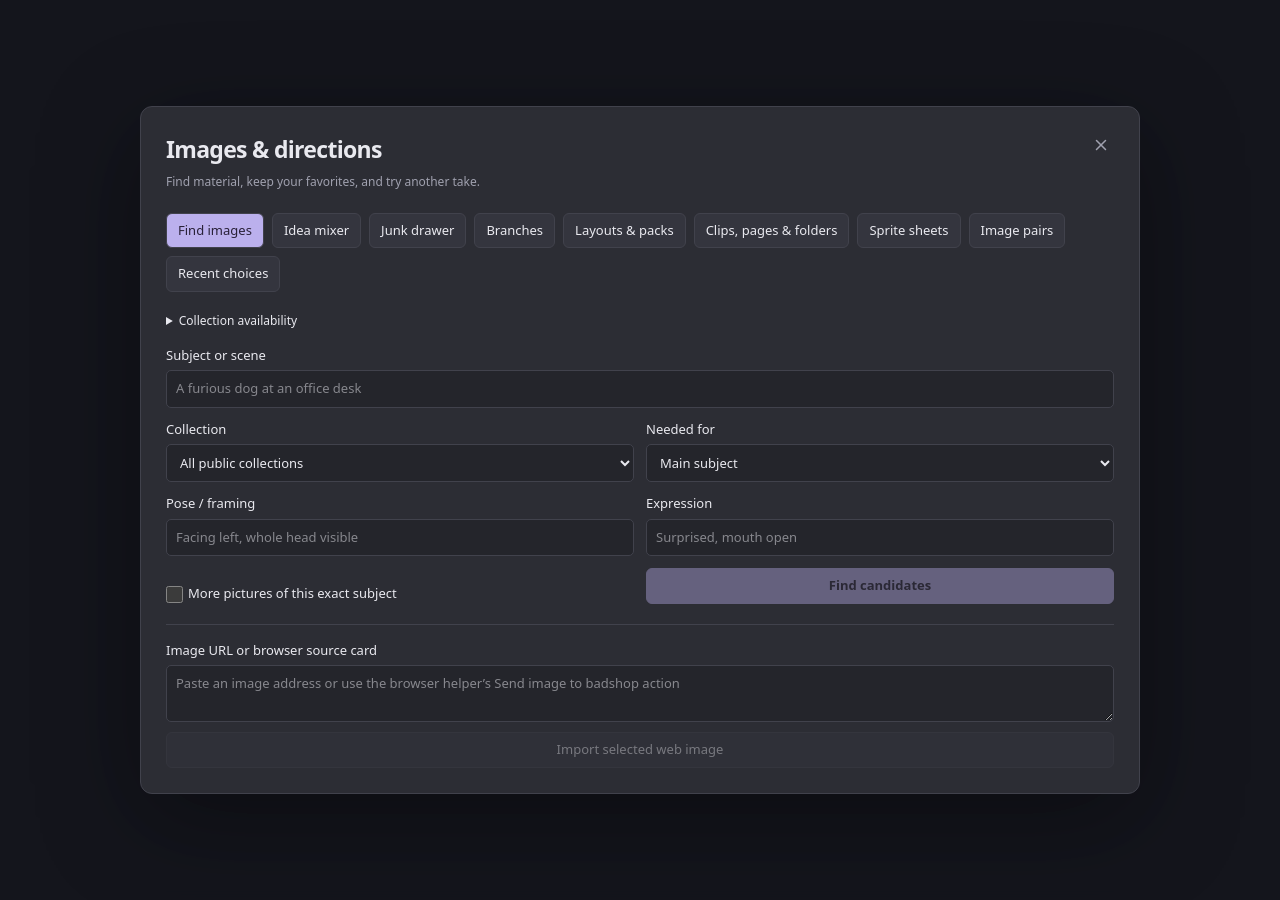
Scenario: shows failed acquisition without attaching a missing image
Replace the text in the text box labelled "Image URL or browser source card" with "https://example.org/image" at (640, 694), box x1=166 y1=665 x2=1114 y2=722
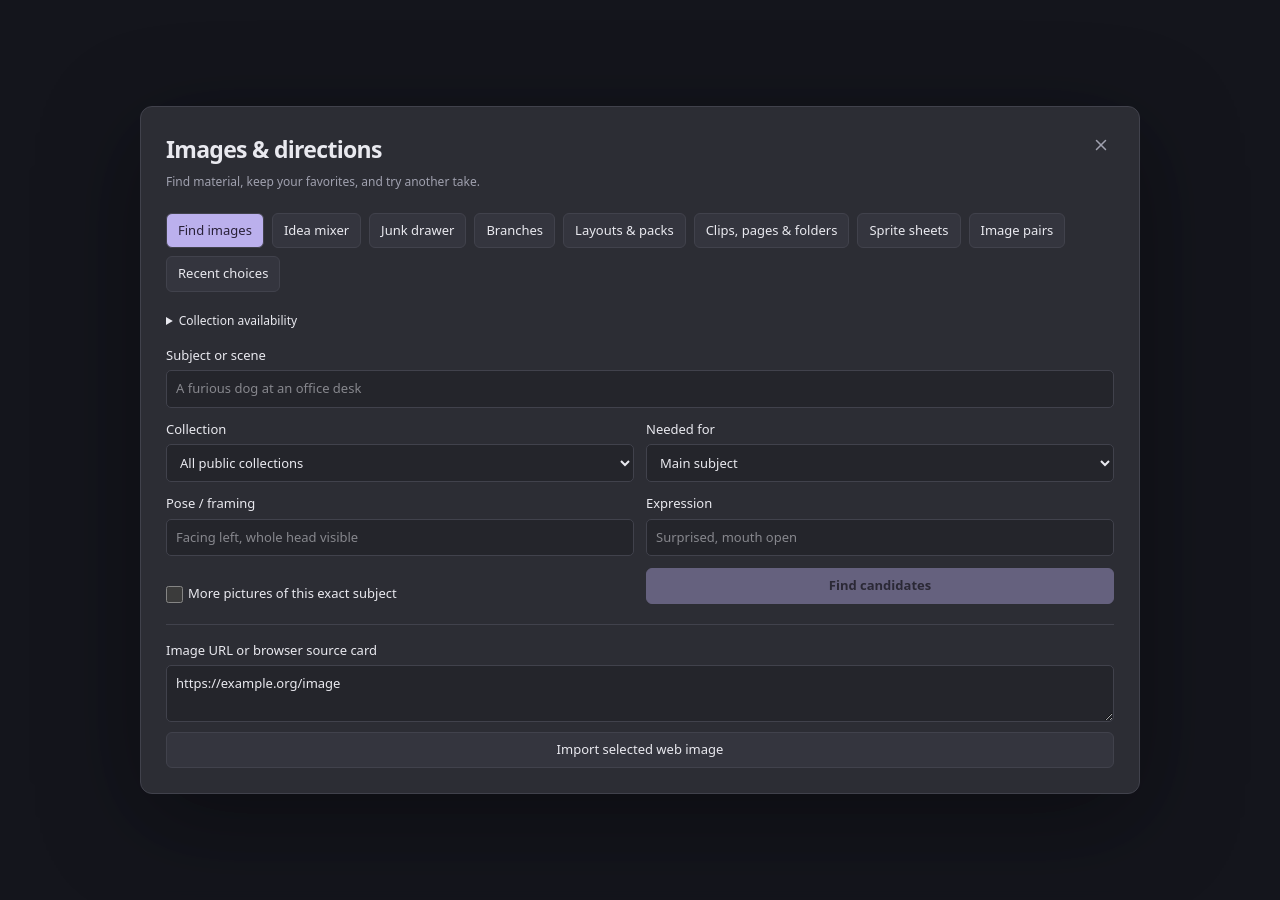
Click the button "Import selected web image" at (640, 750), box x1=166 y1=732 x2=1114 y2=768
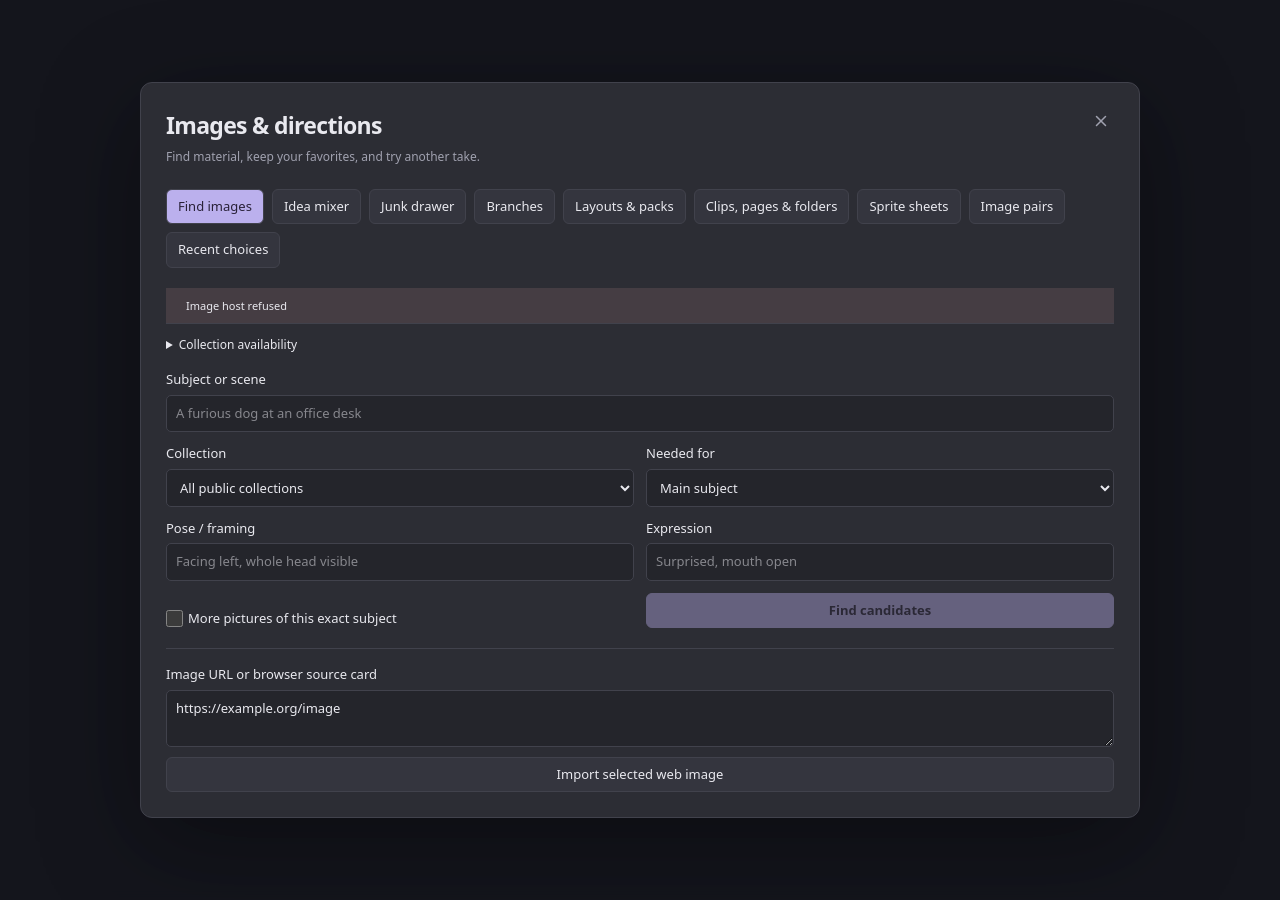
Result: the message reads "Image host refused" at x1=186 y1=298 x2=287 y2=312
